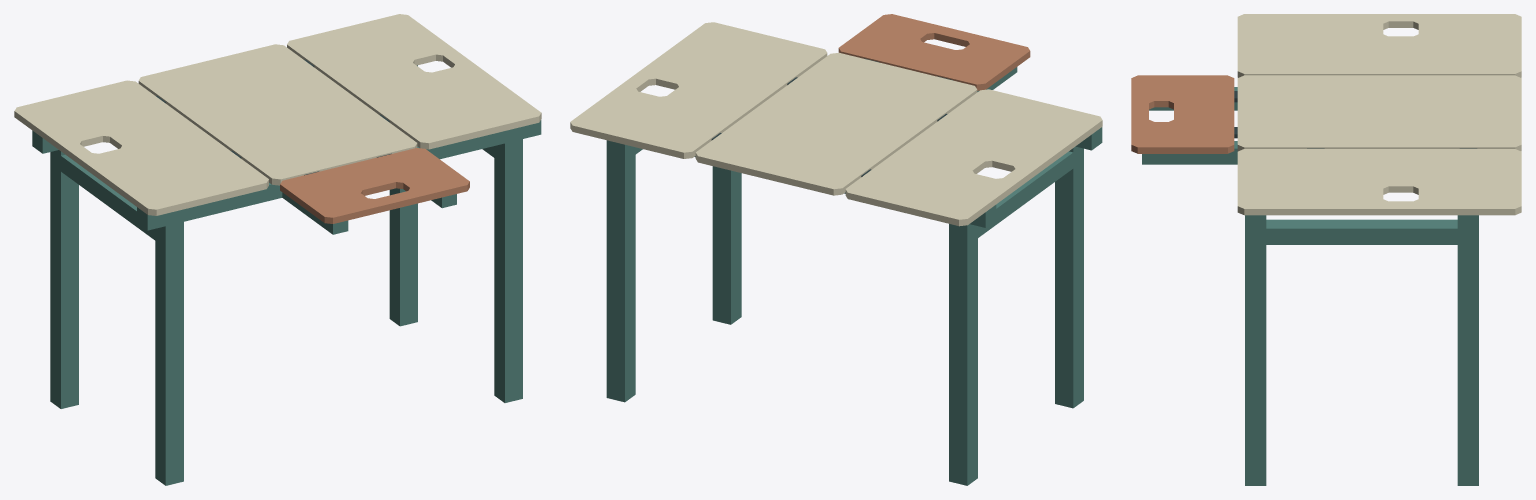
3 renders of one model, left to right at view 1: azimuth 30°, elevation 25°; view 2: azimuth 150°, elevation 25°; view 3: azimuth 270°, elevation 25°, orthographic.
Parts seen in each view (by area): view 1: CentralFoldingBoard, LeftSlottedFoldingWing, RightSlottedFoldingWing, FrontSlottedFoldingFlap, LeftFrontGroundedLeg, RightFrontGroundedLeg, LeftRearGroundedLeg, RightRearGroundedLeg, FrontTransverseBearingBeam, LeftOpenFrameSideRail; view 2: CentralFoldingBoard, LeftSlottedFoldingWing, RightSlottedFoldingWing, FrontSlottedFoldingFlap, RightRearGroundedLeg, LeftRearGroundedLeg, LeftFrontGroundedLeg, RightFrontGroundedLeg, LeftOpenFrameSideRail; view 3: CentralFoldingBoard, RightSlottedFoldingWing, LeftSlottedFoldingWing, FrontSlottedFoldingFlap, RightFrontGroundedLeg, RightRearGroundedLeg, RightOpenFrameSideRail, RightForwardFlapBearingProng.
Boxes of the visible parts, x1,y1,x2,y2 form: CentralFoldingBoard: (138, 44, 417, 185); LeftSlottedFoldingWing: (14, 80, 268, 215); RightSlottedFoldingWing: (287, 14, 541, 149); FrontSlottedFoldingFlap: (280, 148, 469, 223); LeftFrontGroundedLeg: (155, 222, 183, 485); RightFrontGroundedLeg: (494, 139, 522, 402); LeftRearGroundedLeg: (50, 150, 78, 408); RightRearGroundedLeg: (389, 65, 417, 326); FrontTransverseBearingBeam: (137, 120, 541, 230); LeftOpenFrameSideRail: (61, 154, 155, 240); CentralFoldingBoard: (695, 52, 977, 195); LeftSlottedFoldingWing: (845, 89, 1102, 226); RightSlottedFoldingWing: (570, 22, 827, 158); FrontSlottedFoldingFlap: (838, 14, 1030, 90); RightRearGroundedLeg: (606, 140, 635, 402); LeftRearGroundedLeg: (949, 224, 977, 485); LeftFrontGroundedLeg: (1055, 146, 1083, 408); RightFrontGroundedLeg: (712, 166, 741, 324); LeftOpenFrameSideRail: (978, 151, 1073, 237); CentralFoldingBoard: (1237, 75, 1521, 151); RightSlottedFoldingWing: (1237, 149, 1521, 215); LeftSlottedFoldingWing: (1237, 14, 1521, 77); FrontSlottedFoldingFlap: (1131, 75, 1234, 153); RightFrontGroundedLeg: (1245, 231, 1266, 485); RightRearGroundedLeg: (1457, 231, 1478, 485); RightOpenFrameSideRail: (1266, 219, 1457, 244); RightForwardFlapBearingProng: (1142, 141, 1237, 164).
Bounding box in the file's own units: 1.3 × 0.89 × 1.1.
